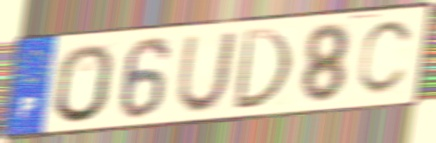6: (118, 35, 173, 122)
8: (296, 20, 353, 107)
C: (354, 17, 417, 99)
D: (230, 26, 295, 112)
O: (53, 41, 116, 126)
U: (173, 29, 240, 115)
